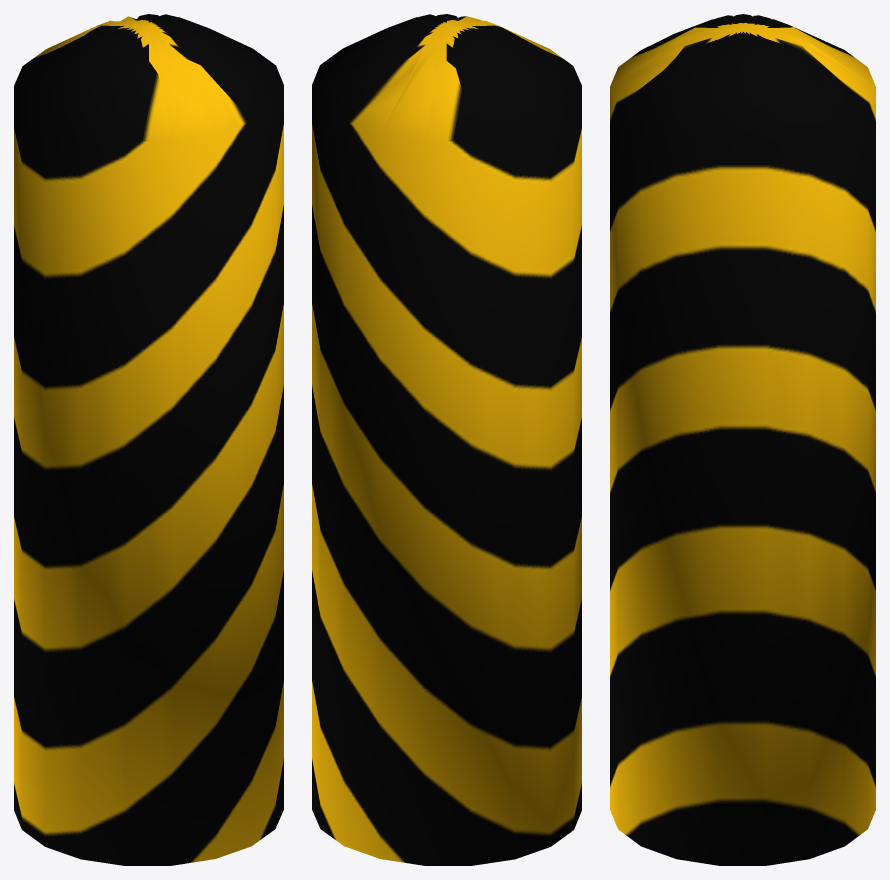
File: 障礙柱子.fbx
3 views of the same model, side by side, from view 1: azimuth 30°, elevation 25°; view 2: azimuth 150°, elevation 25°; view 3: azimuth 270°, elevation 25° (orthographic).
Parts seen in each view (by area): view 1: 圓柱體; view 2: 圓柱體; view 3: 圓柱體.
Boxes of the visible parts, x1=… form: 圓柱體: x1=14, y1=14, x2=283, y2=865; 圓柱體: x1=312, y1=14, x2=581, y2=865; 圓柱體: x1=610, y1=14, x2=875, y2=865.
Size of the model in its own units: 100 by 100 by 325.
1 material, 1 textured.
